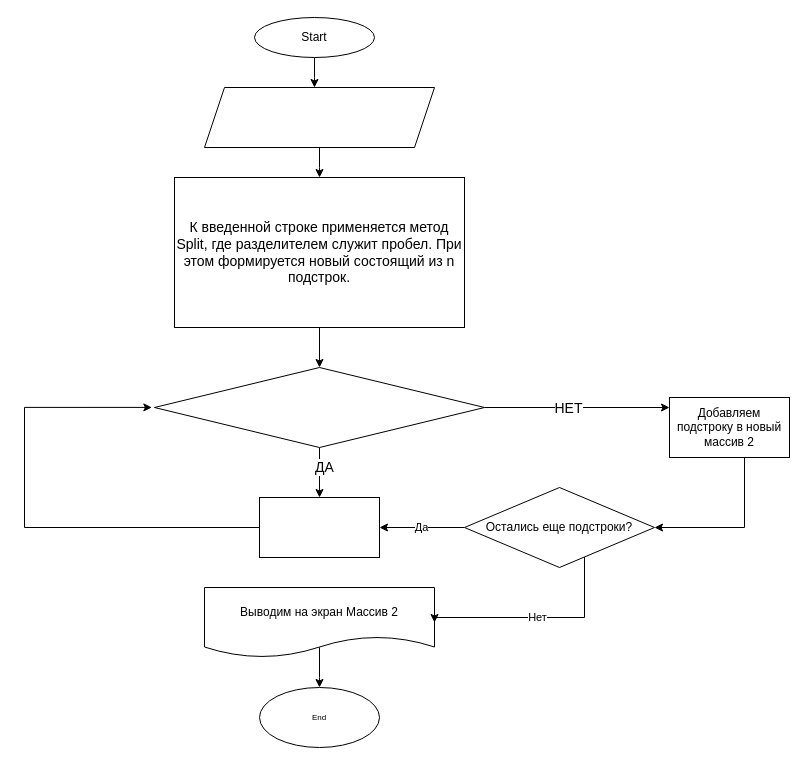
This 807x765 diagram has some shape labels left out. Here are the shapes that lost their labels. From the top down, the box of each, then its label:
(204, 86, 434, 148): Введите с клавиатуры строку
(154, 366, 484, 448): сформированная подстрока содержит более трех символов?
(258, 496, 380, 558): Переходим к следующей
